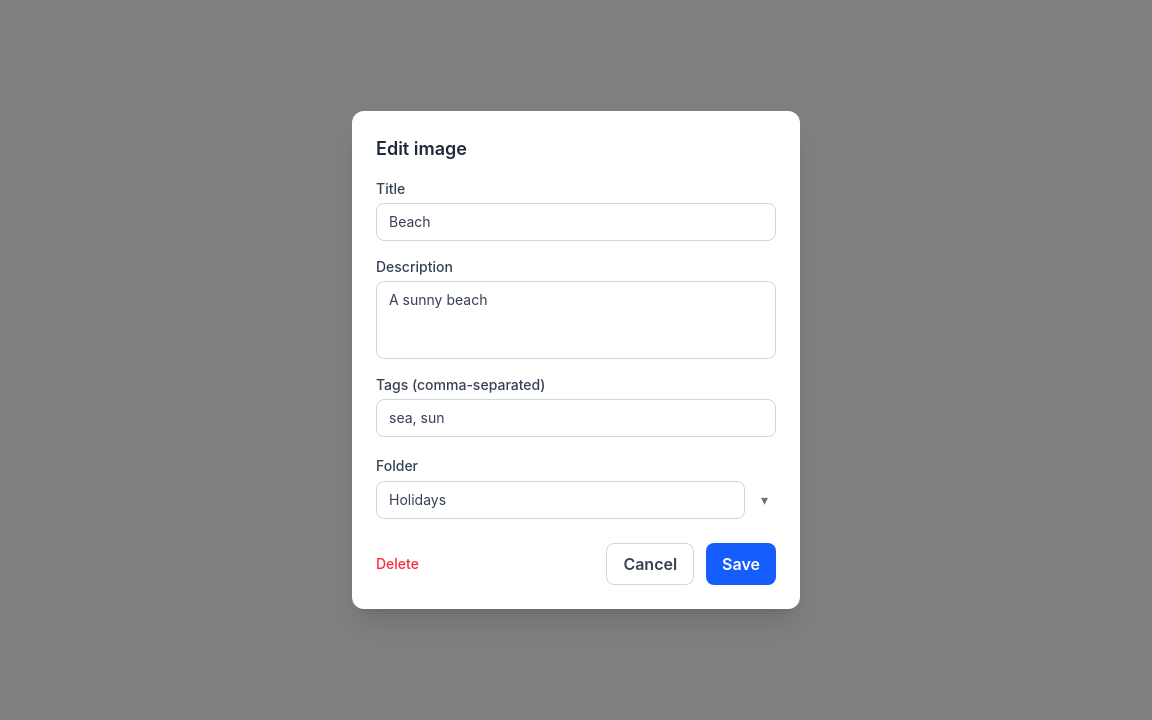
Test: ImageEditModal › lists the folders the server returned
This screenshot has width=1152, height=720.
Click the button with test id "album-picker-toggle".
click(764, 500)  # box top-left (753, 481), bottom-right (776, 519)
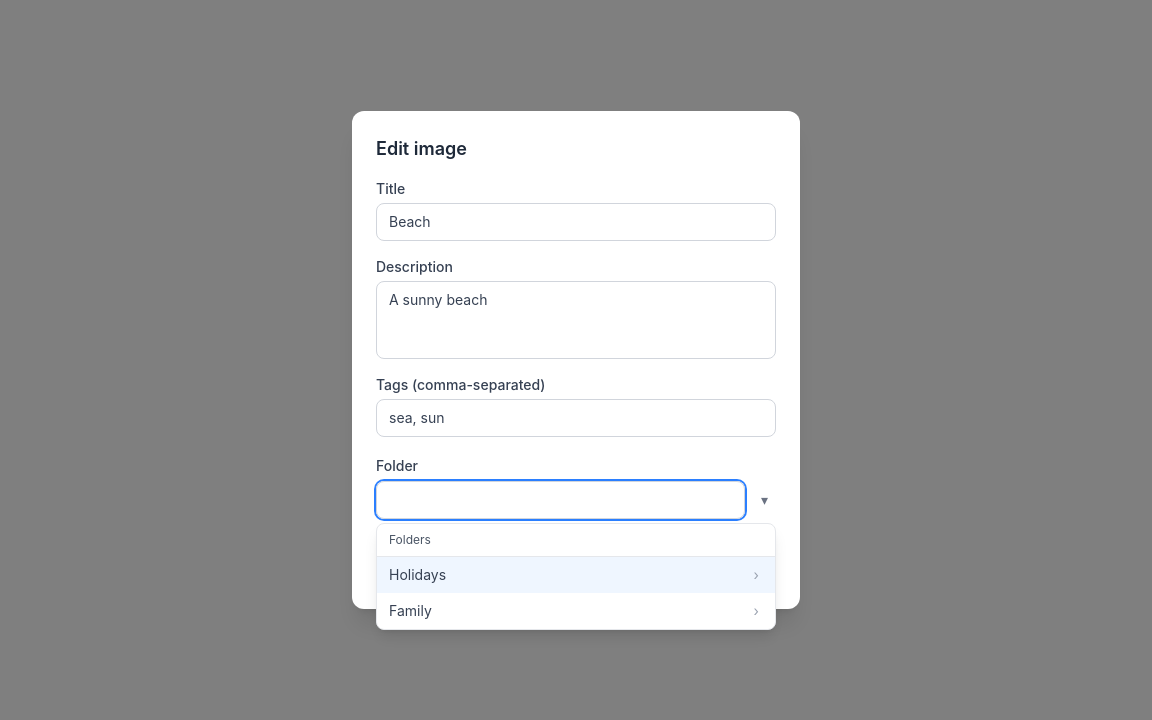
Expected: the option with test id "album-picker-option-1" shows "Holidays", top-left (377, 557), bottom-right (775, 593)
Expected: the option with test id "album-picker-option-2" shows "Family", top-left (389, 601), bottom-right (763, 621)
